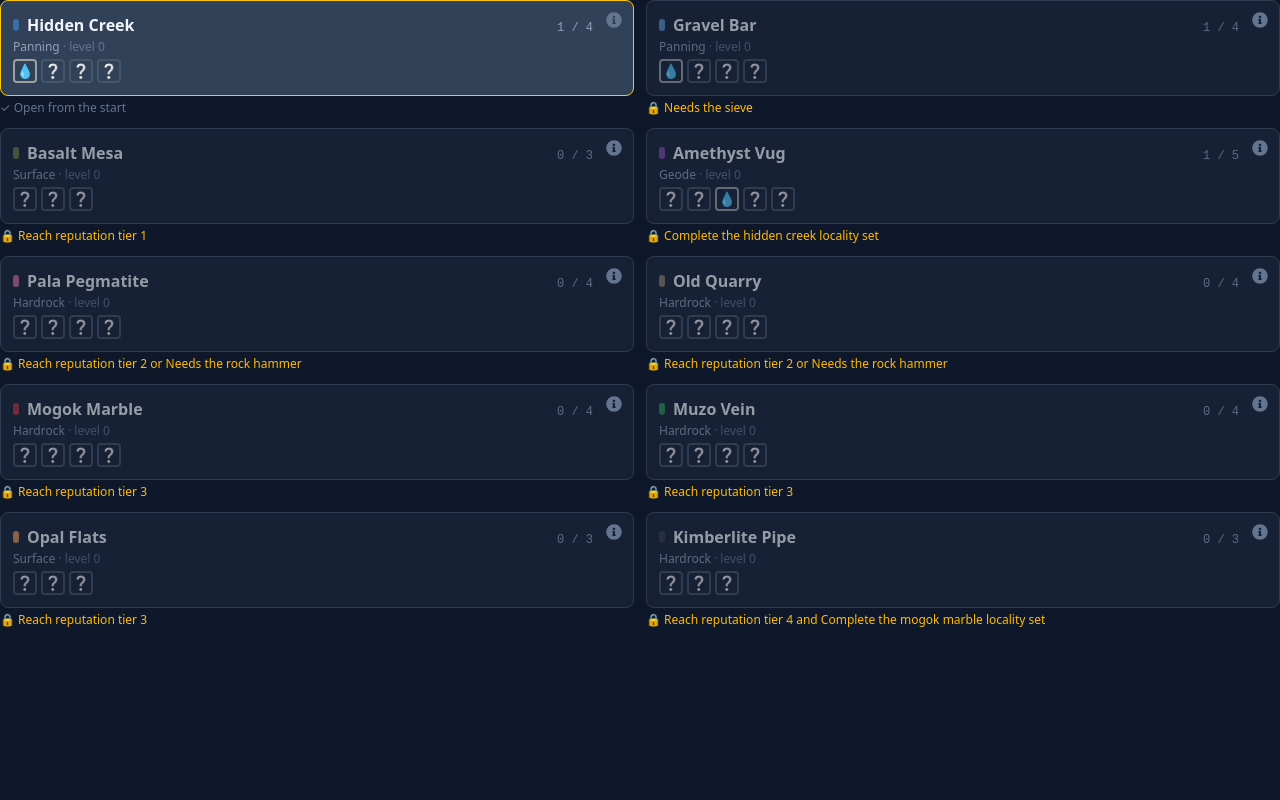
Test: LocalityMap › opens the field guide for a locked locality too
Step 1. Click the button named "Gravel Bar field guide" → (1260, 20), box [1248,8,1272,32]
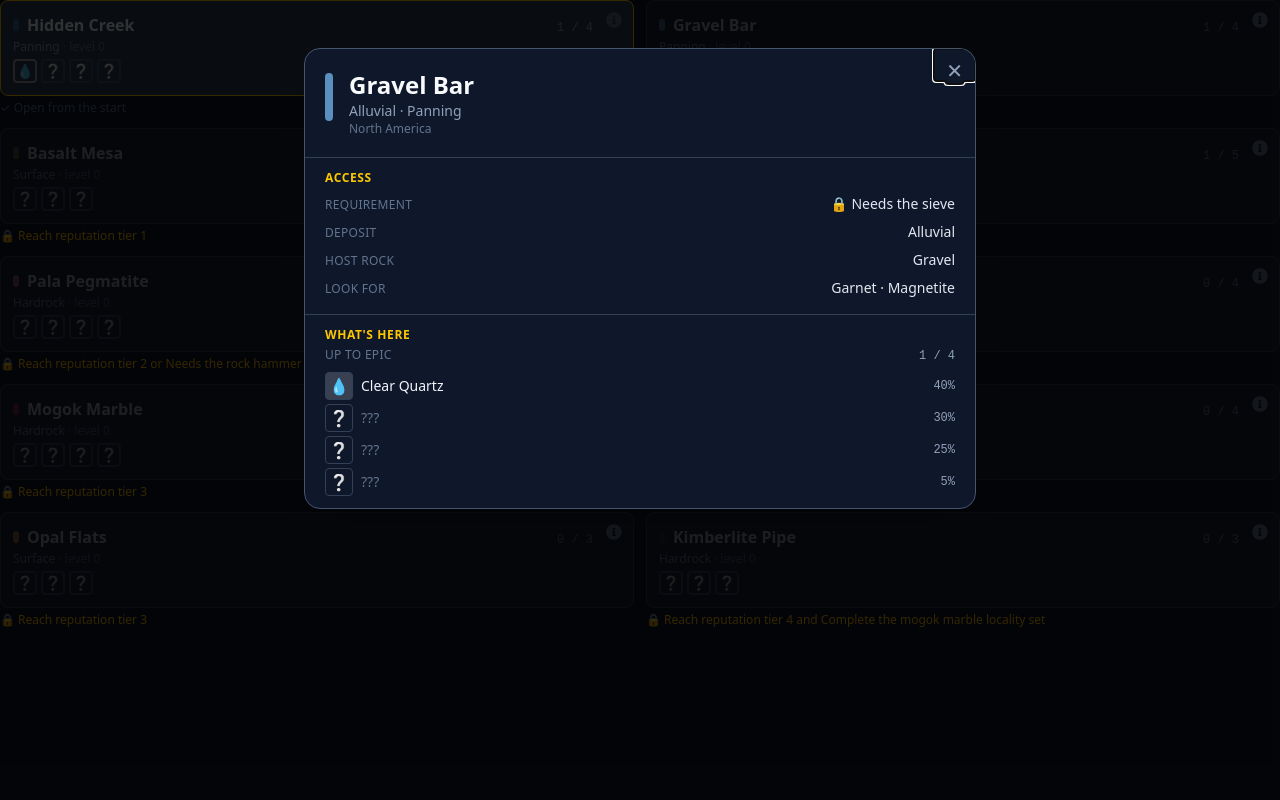
Check: the heading "Gravel Bar" is shown, box [349,69,474,101]
